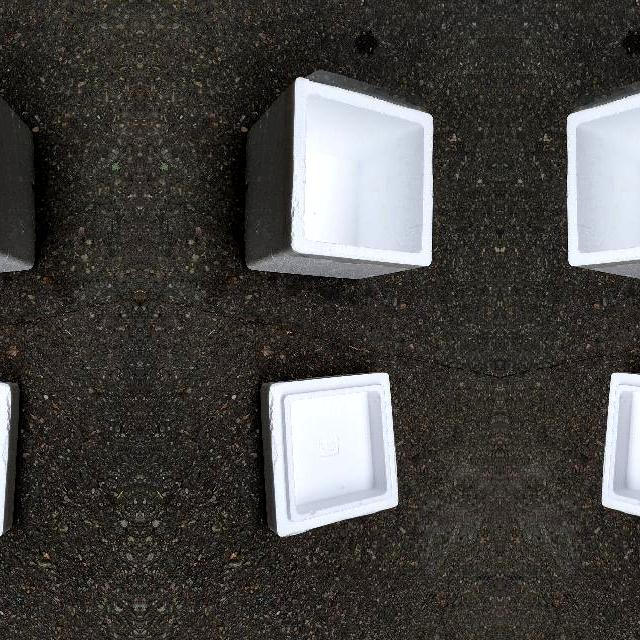Styrofoam: (246, 70, 434, 280), (244, 70, 433, 278), (259, 370, 399, 538), (261, 373, 398, 538), (565, 70, 640, 280), (567, 81, 640, 278), (601, 370, 640, 538), (602, 373, 640, 517)
